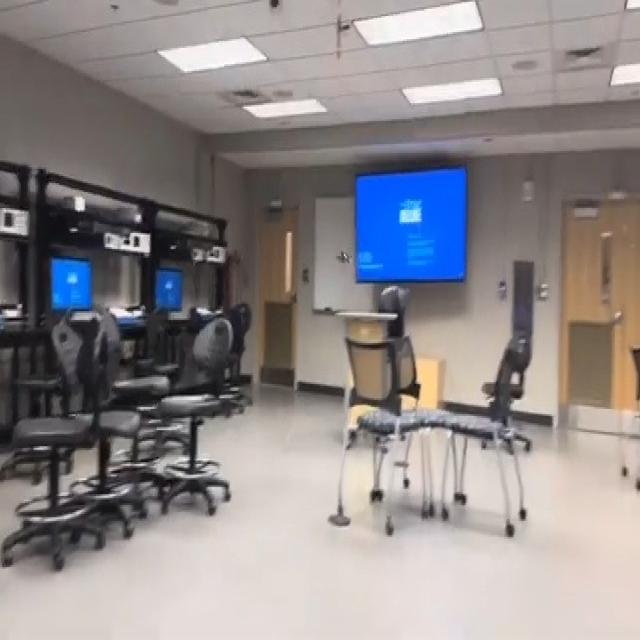drone: (330, 235, 360, 286)
